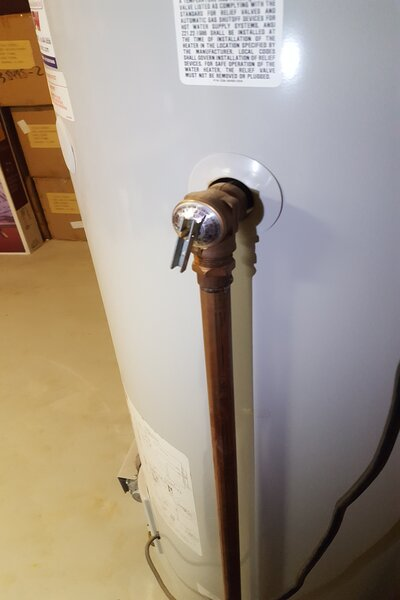valve: (169, 176, 250, 301)
